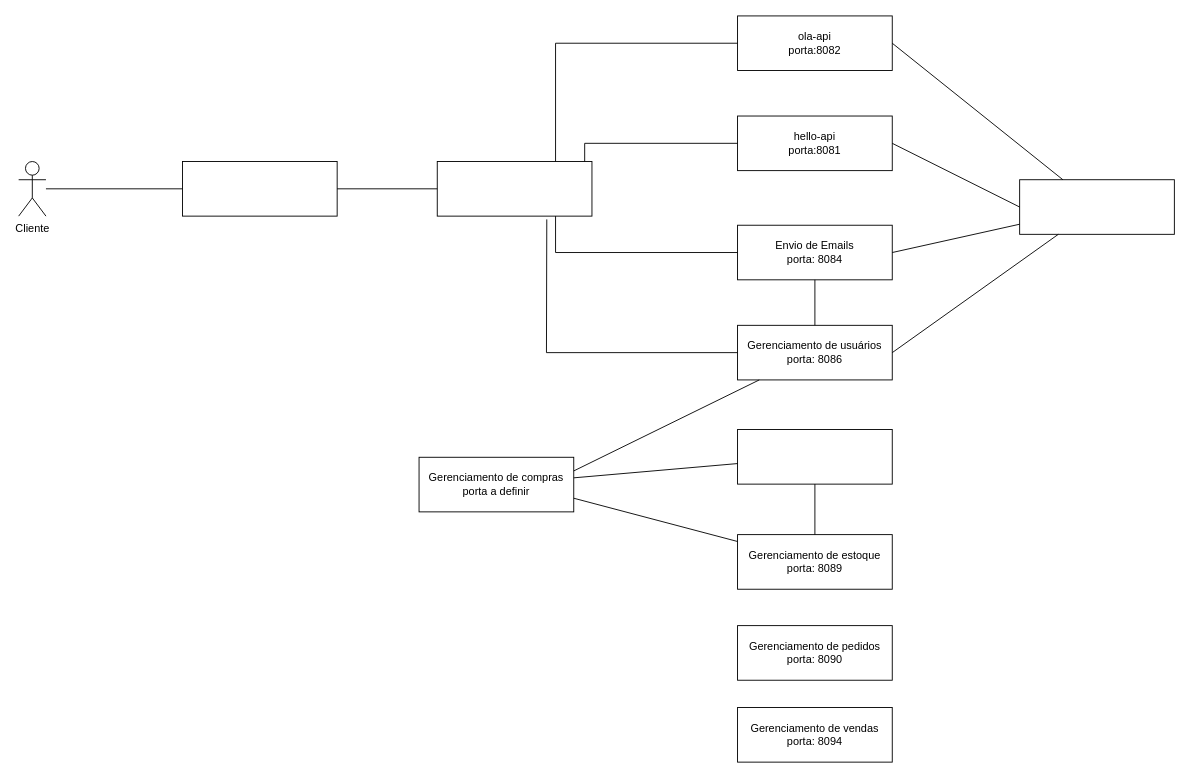
The diagram is 1190 pixels wide and 778 high, and some of its shapes have lost their labels. The box of each missing label's shape, as (x1, y1, x2, y2) in pixels:
Eureka Server (Service Discovery) porta:8761: (436, 161, 592, 216)
Gerenciamento de produtos porta: 8088: (737, 429, 892, 484)
RabbitMQ (Message Broker): (1019, 179, 1174, 234)
Spring Cloud API (API gateway) porta:8083: (182, 161, 337, 216)
